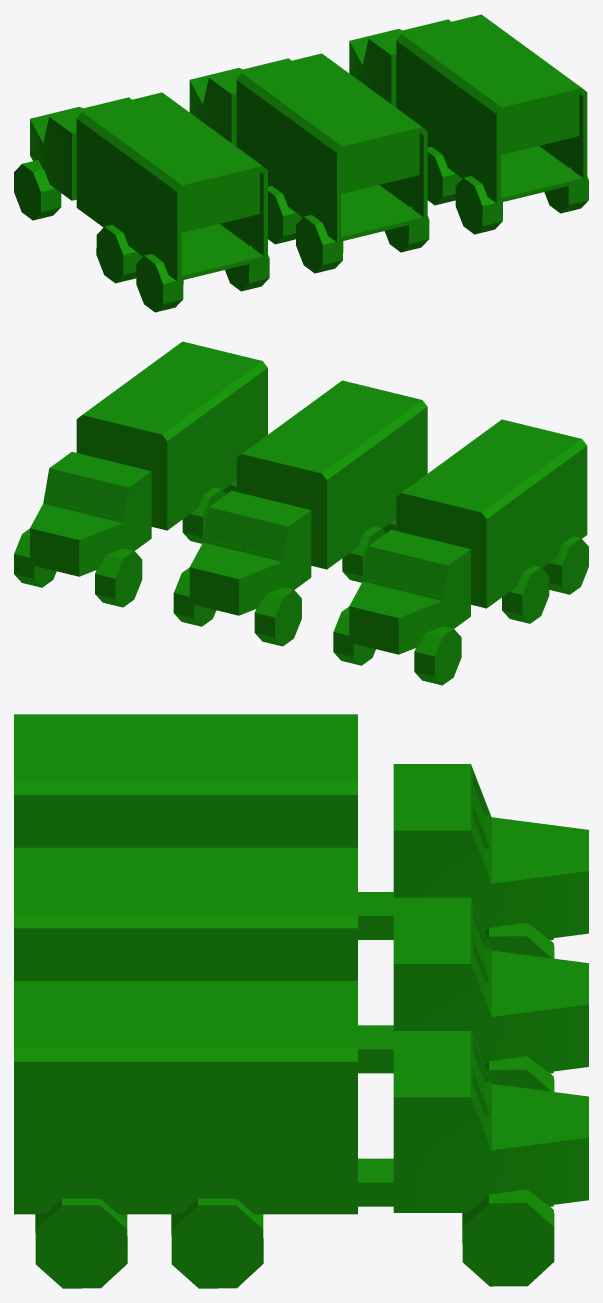
Rendered from FoodTrucks.fbx.
3 views of the same model, one above another, from view 1: azimuth 30°, elevation 25°; view 2: azimuth 150°, elevation 25°; view 3: azimuth 270°, elevation 25° (orthographic). The views are drawn at different scales.
Parts seen in each view (by area): view 1: FoodTrucks; view 2: FoodTrucks; view 3: FoodTrucks.
Part boxes in pixels (left/top/right/bottom): FoodTrucks: left=14, top=14, right=588, bottom=312; FoodTrucks: left=14, top=341, right=588, bottom=685; FoodTrucks: left=14, top=714, right=588, bottom=1288.
Size of the model in its own units: 204 by 61.35 by 139.
